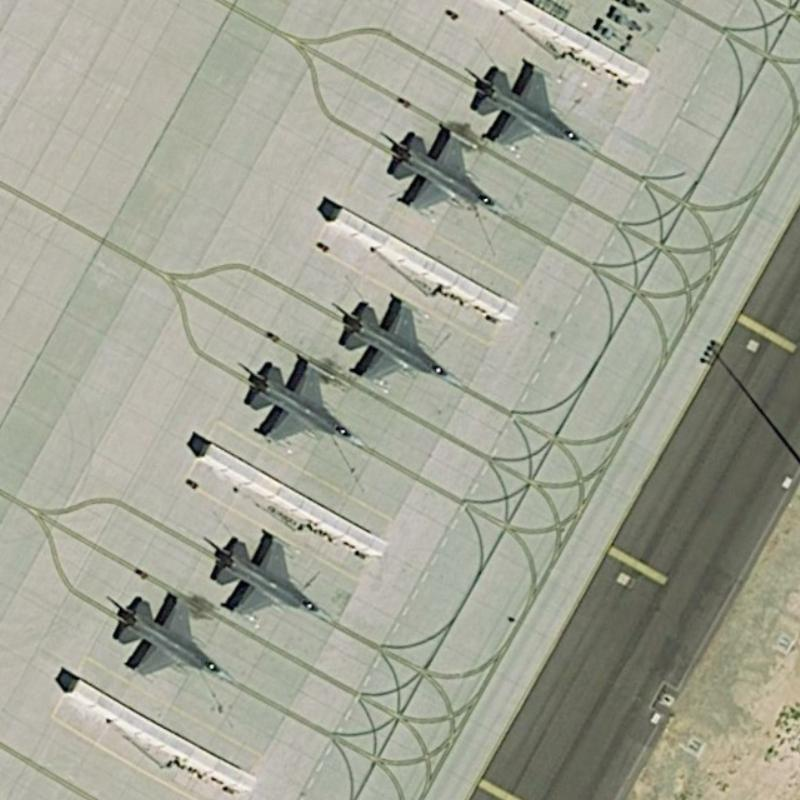A5: (198, 521, 336, 632), (325, 289, 466, 393), (229, 350, 369, 454), (105, 585, 236, 693), (376, 119, 505, 227), (459, 53, 595, 154)
